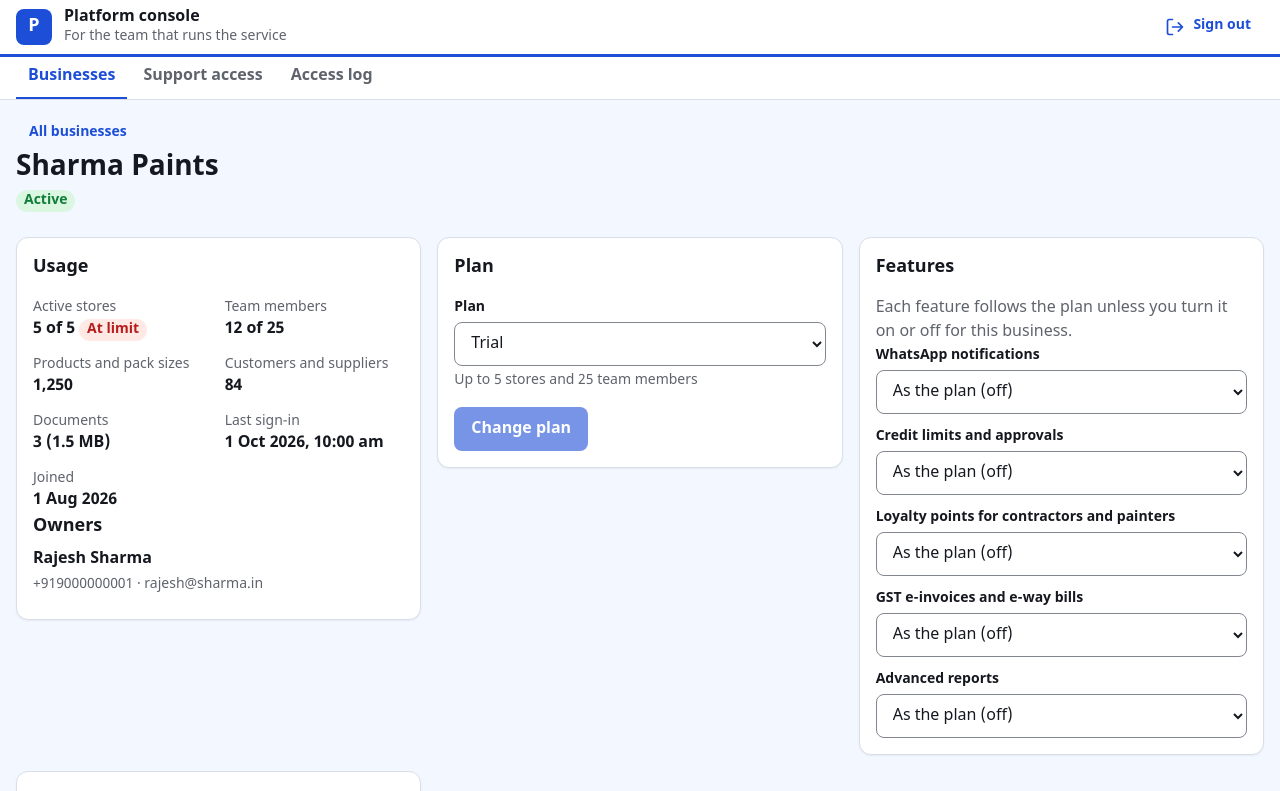
Test: a business › changes the plan
The width and height of the screenshot is (1280, 791).
Expected: the button "Change plan" is disabled, left=454, top=407, right=588, bottom=451
Expected: the element "Plan" shows "Up to 5 stores and 25 team members", left=454, top=371, right=698, bottom=390
Select "Enterprise" in the dropdown labelled "Plan": {"x": 640, "y": 344} left=454, top=322, right=826, bottom=366
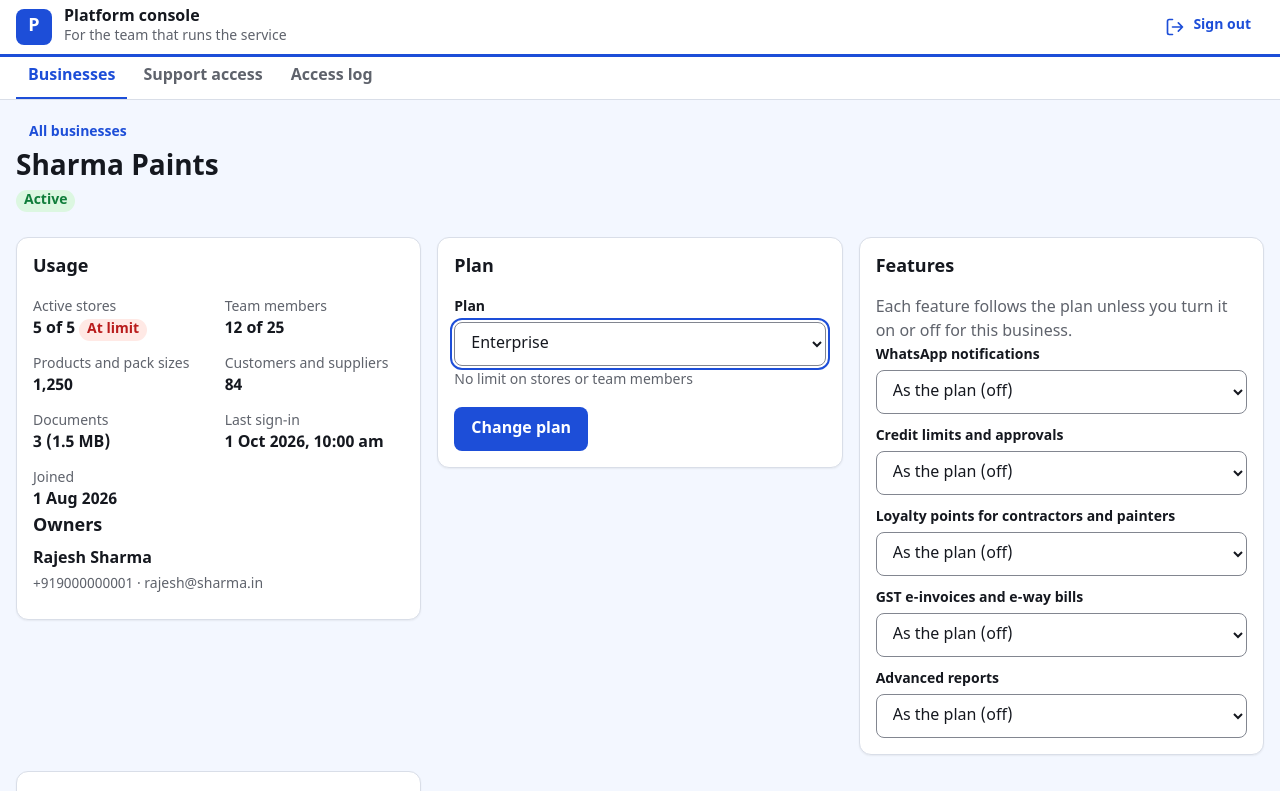
Now the element "Plan" shows "No limit on stores or team members", box left=454, top=371, right=693, bottom=390
Click the button "Change plan": {"x": 521, "y": 429} left=454, top=407, right=588, bottom=451
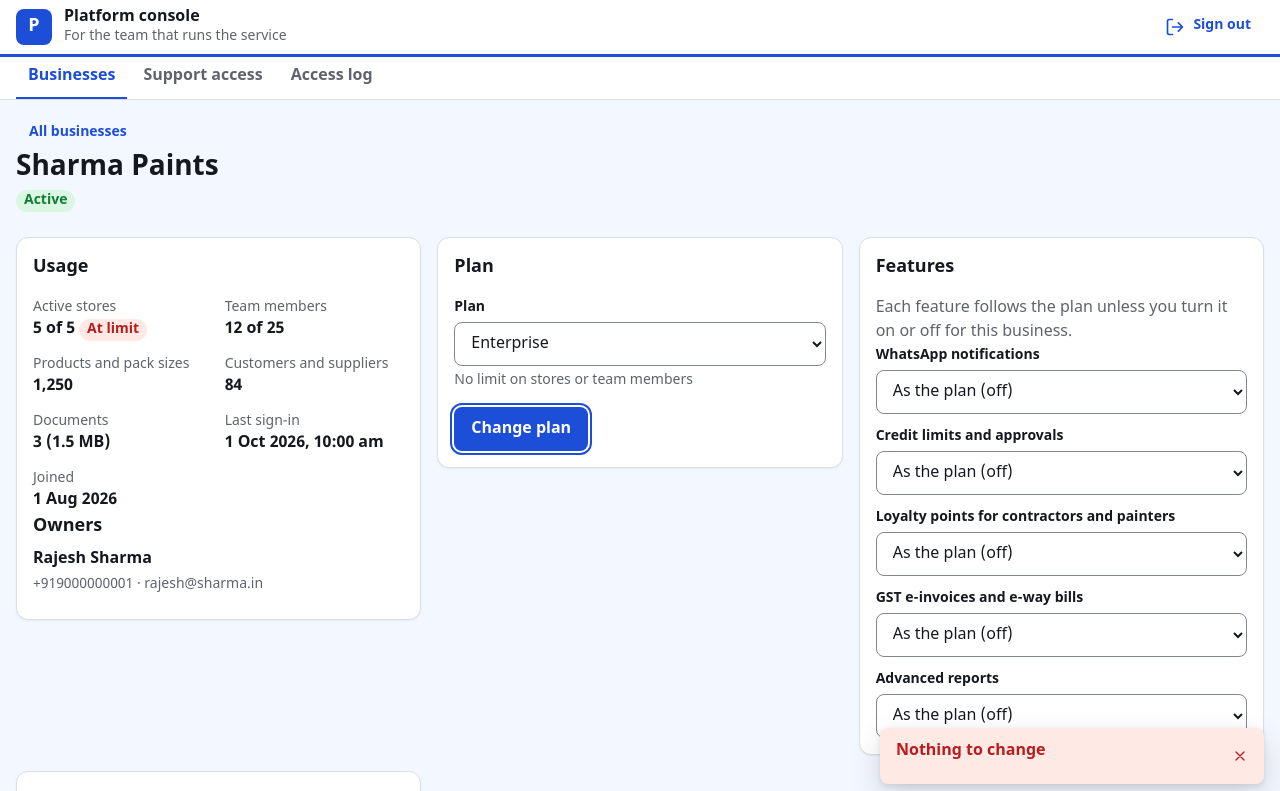
Now the text "Nothing to change" is shown, box left=896, top=741, right=1046, bottom=762
Click the button "Change plan": {"x": 521, "y": 429} left=454, top=407, right=588, bottom=451
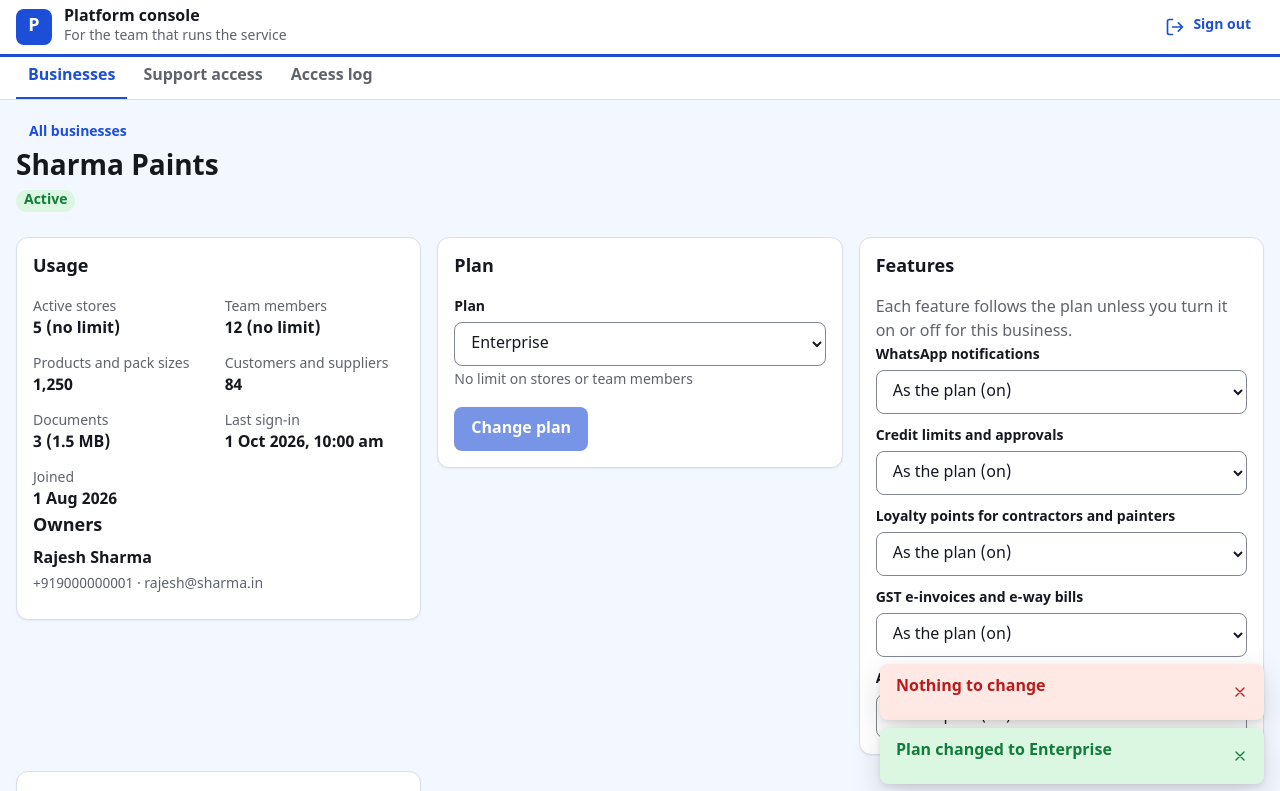
Now the text "Plan changed to Enterprise" is shown, box left=896, top=741, right=1112, bottom=762
Now the text "5 (no limit)" is shown, box left=33, top=319, right=120, bottom=340
